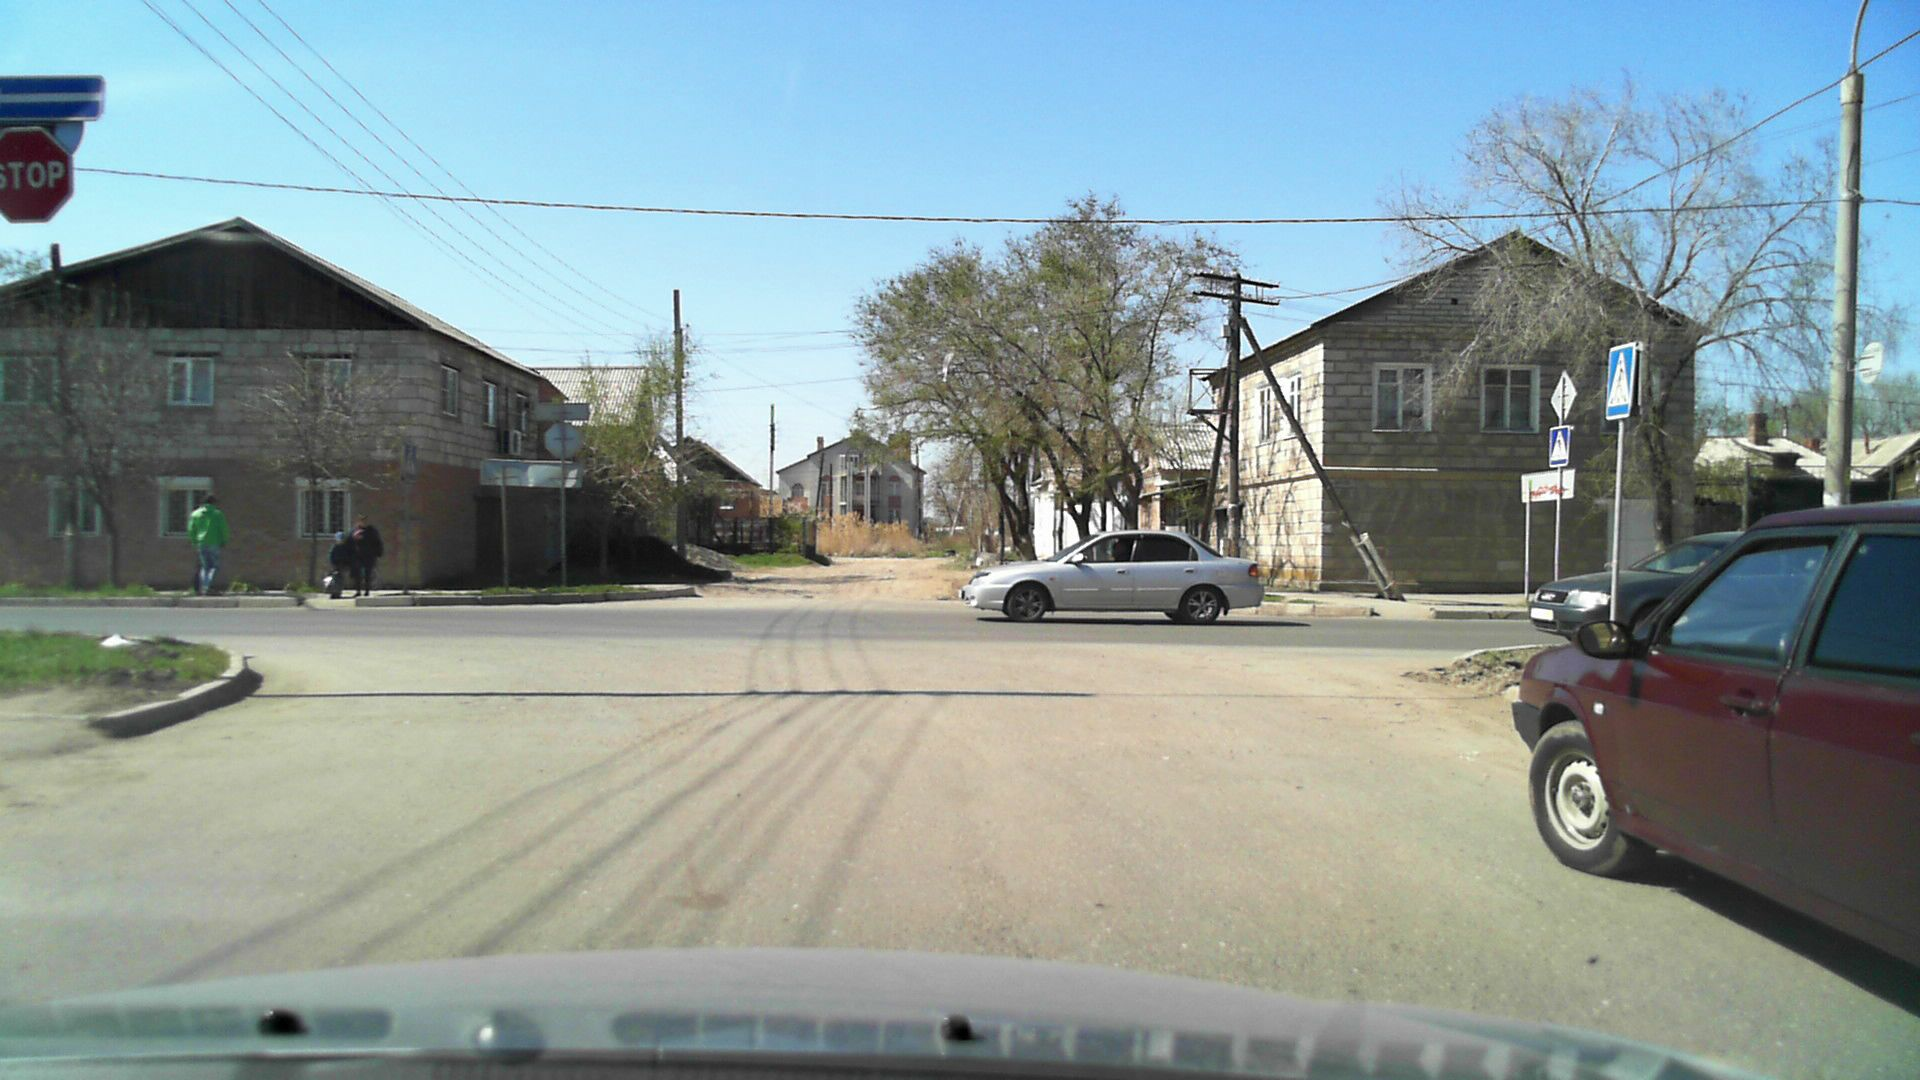Pedestrian Crossing: (1607, 349, 1633, 415)
